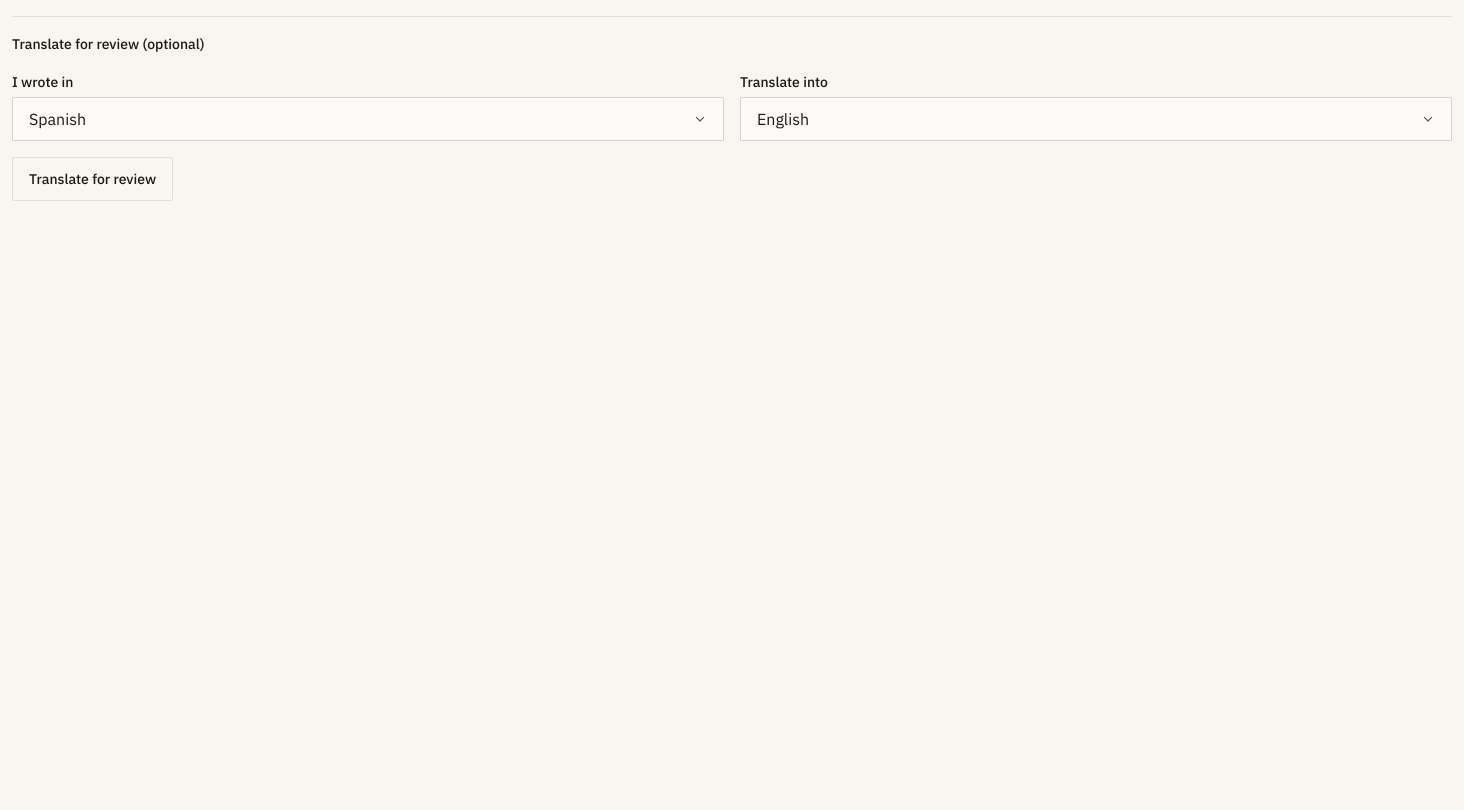
Scenario: translation for review › shows the translation as an editable draft, labelled for review, with the original kept
The width and height of the screenshot is (1464, 810).
Click the button "Translate for review". click: (93, 179)
box: [12,157,173,201]
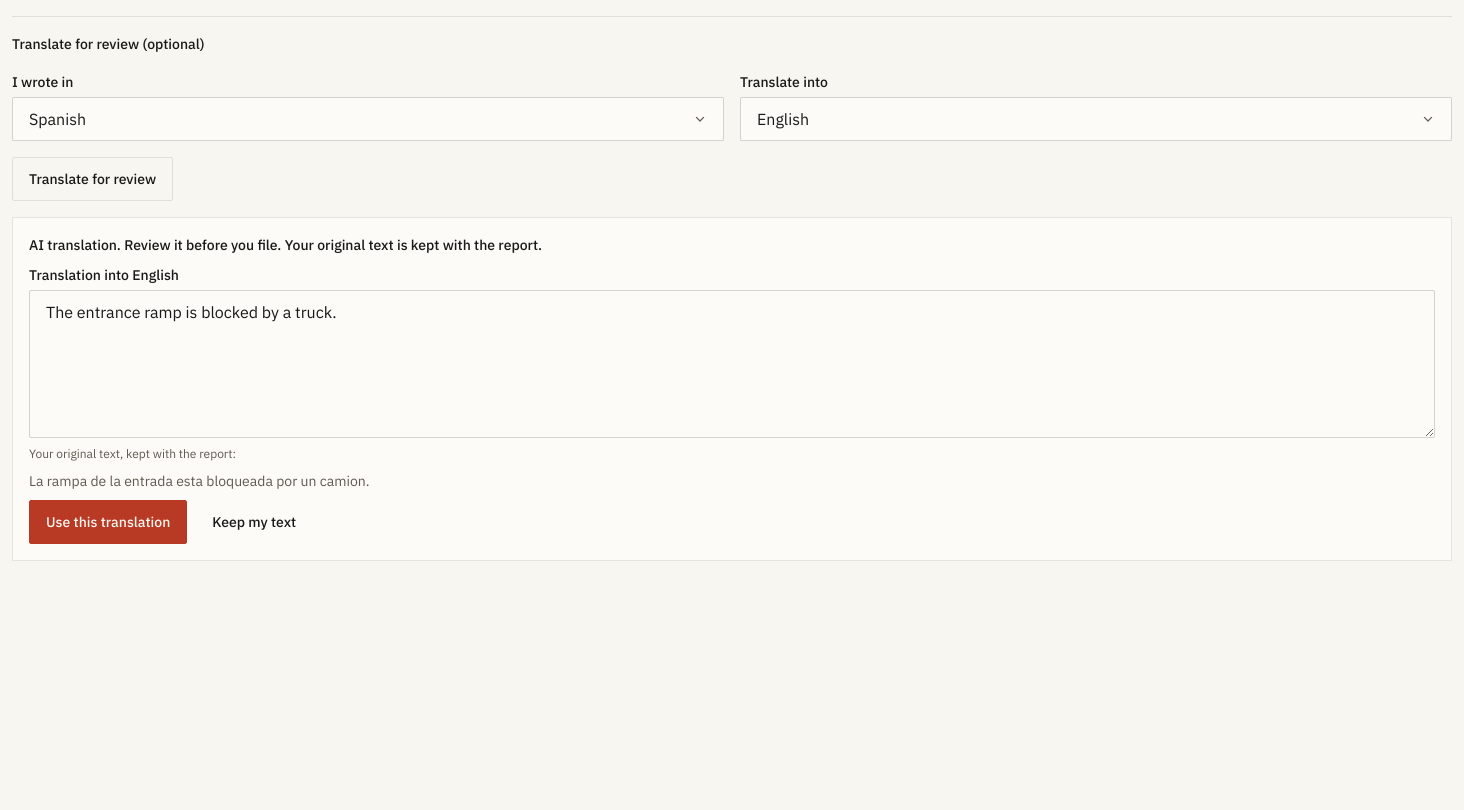
Now the text "AI translation. Review it before you file" is shown, box [29,236,542,254]
Now the text box labelled "Translation into English" holds "The entrance ramp is blocked by a truck.", box [29,290,1435,438]
Now the text "La rampa de la entrada esta bloqueada por un camion." is shown, box [29,472,370,490]
